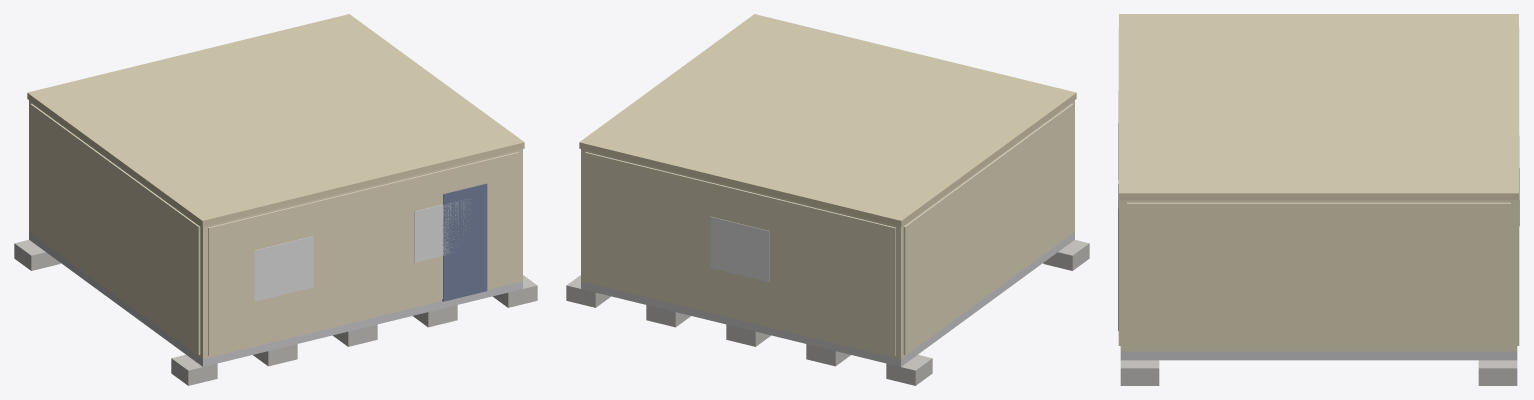
File: Studio-20-Base-MicroGrainYellowSlate-LOD1.glb
3 renders of one model, left to right at view 1: azimuth 30°, elevation 25°; view 2: azimuth 150°, elevation 25°; view 3: azimuth 270°, elevation 25°, orthographic. The views are drawn at different scales.
Parts seen in each view (by area): view 1: RoofMain, ExteriorPanelsStandard, WindowsStandard, EntryDoor, FoundationBlocks, BaseFrame, ExteriorShell; view 2: ExteriorPanelsStandard, RoofMain, FoundationBlocks, BaseFrame, ExteriorShell, WindowsStandard; view 3: RoofMain, ExteriorPanelsStandard, ExteriorShell, BaseFrame, FoundationBlocks.
Boxes of the visible parts, left/top/right/bottom form: RoofMain: left=27, top=14, right=524, bottom=226; ExteriorPanelsStandard: left=30, top=103, right=518, bottom=355; WindowsStandard: left=254, top=199, right=471, bottom=301; EntryDoor: left=442, top=183, right=487, bottom=301; FoundationBlocks: left=14, top=240, right=537, bottom=385; BaseFrame: left=29, top=232, right=522, bottom=366; ExteriorShell: left=29, top=100, right=522, bottom=359; ExteriorPanelsStandard: left=585, top=103, right=1073, bottom=355; RoofMain: left=579, top=14, right=1076, bottom=226; FoundationBlocks: left=566, top=240, right=1089, bottom=385; BaseFrame: left=581, top=232, right=1074, bottom=366; ExteriorShell: left=581, top=100, right=1074, bottom=359; WindowsStandard: left=710, top=216, right=769, bottom=281; RoofMain: left=1119, top=14, right=1518, bottom=200; ExteriorPanelsStandard: left=1118, top=27, right=1519, bottom=349; ExteriorShell: left=1120, top=200, right=1517, bottom=351; BaseFrame: left=1120, top=351, right=1517, bottom=360; FoundationBlocks: left=1120, top=360, right=1517, bottom=385.
Bounding box in the file's own units: 7.14 × 3.17 × 6.24.
